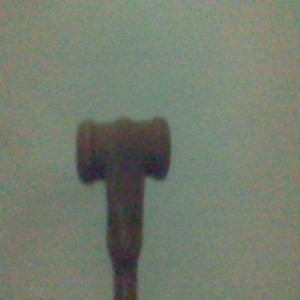palu: (74, 114, 171, 300)
